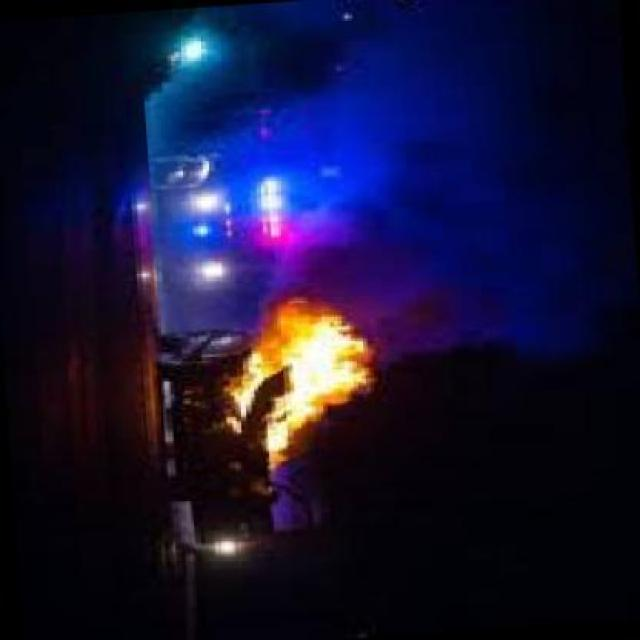Fire: (236, 292, 380, 464)
Smoke: (132, 16, 636, 286), (392, 296, 639, 372)
